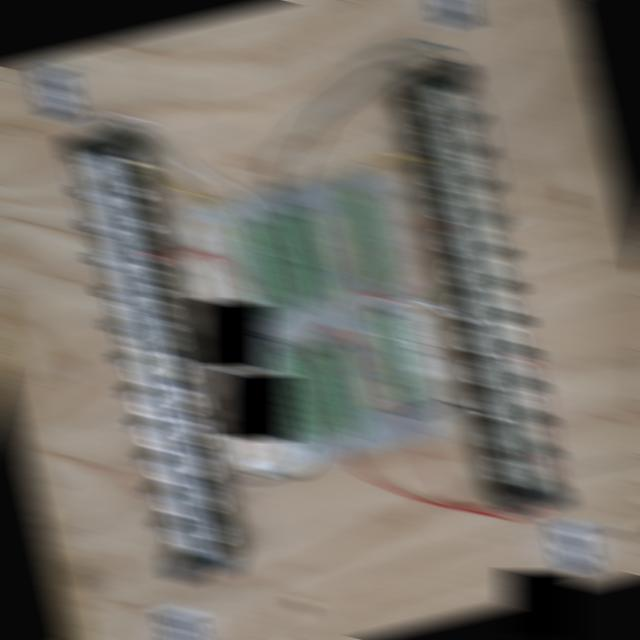Flathead_Block: (401, 58, 571, 516)
Phillips_Block: (61, 124, 237, 584)
Terminal_1: (371, 309, 421, 408), (343, 190, 392, 288)
Terminal_2: (293, 348, 342, 442), (319, 341, 367, 435), (288, 206, 336, 299), (234, 221, 281, 314), (261, 213, 308, 306)
